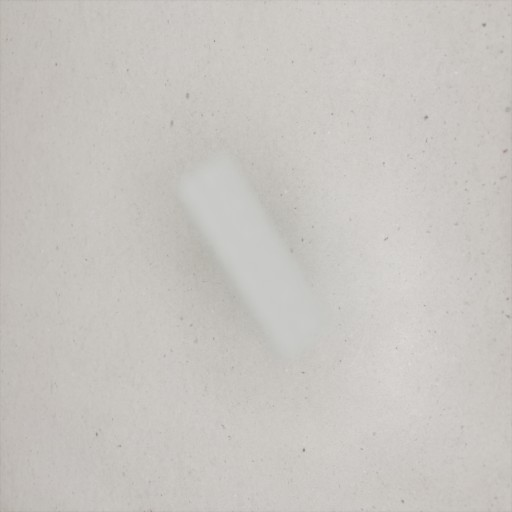lego: (172, 151, 334, 363)
